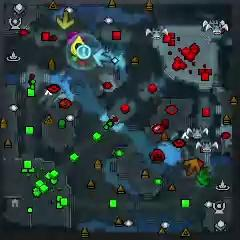Other: (77, 45, 90, 60)
p3: (67, 32, 87, 45)
p4: (70, 35, 88, 56)
p4Clone: (73, 41, 85, 55)
x2: (56, 10, 74, 28)
x3: (95, 48, 111, 68)
x4: (195, 168, 211, 187)
x5: (183, 158, 200, 175)
